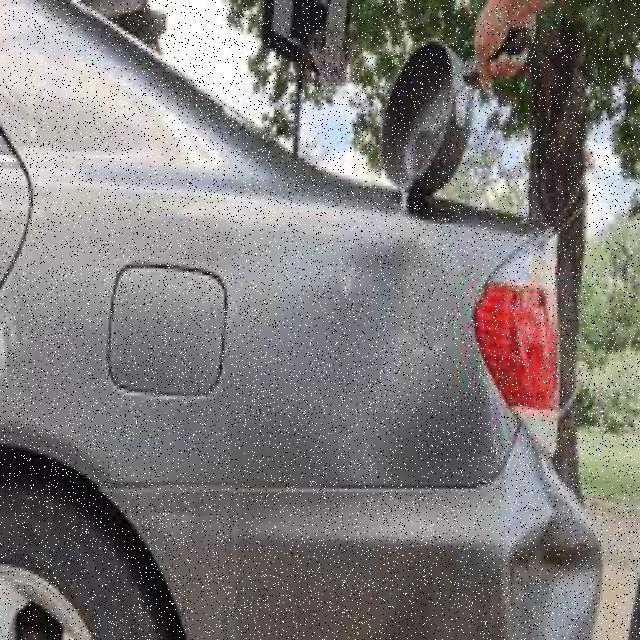quaterpanel-dent: (17, 193, 482, 537)
rear-bumper-dent: (345, 423, 628, 636)
